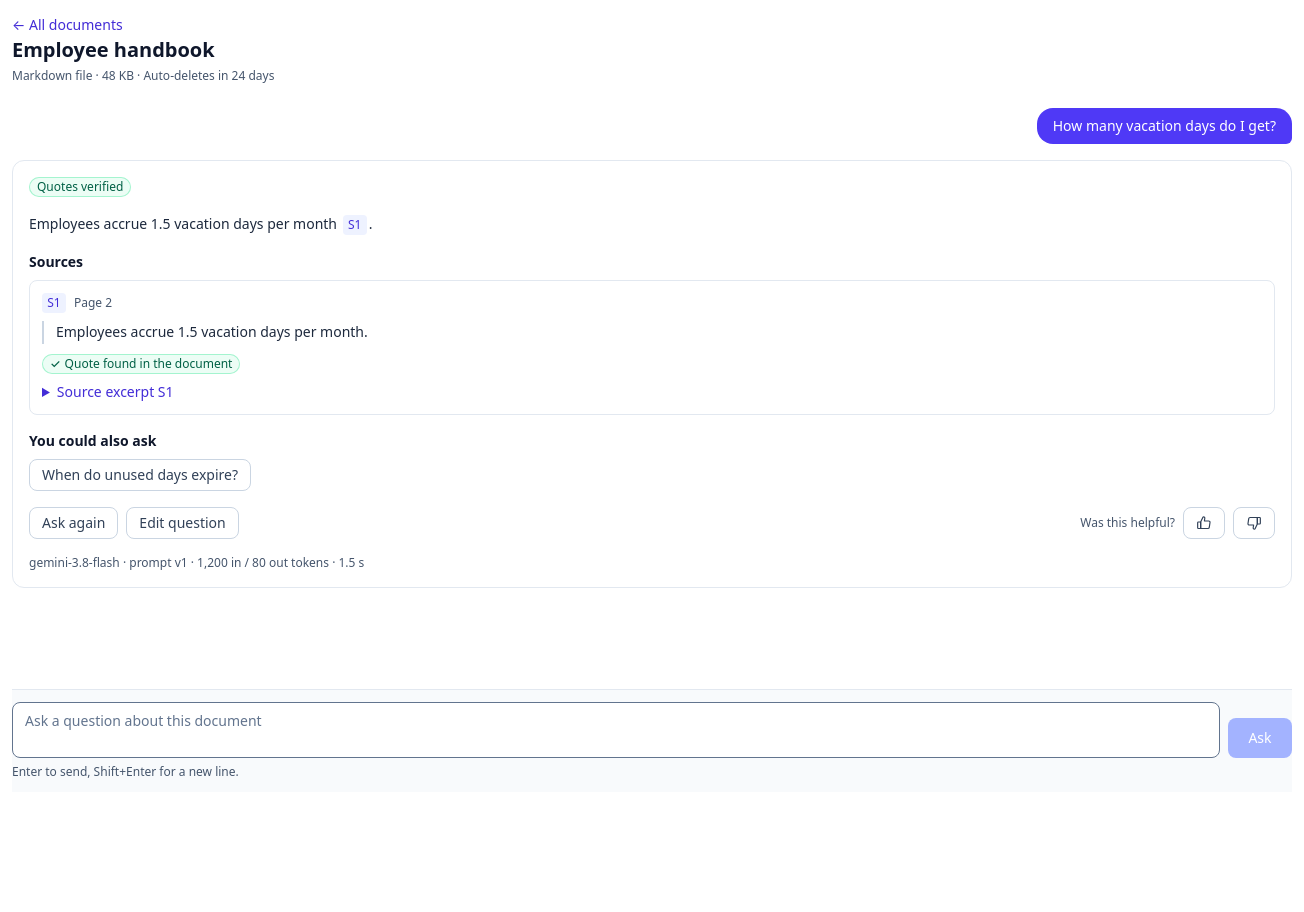
Scenario: ChatView: a stored conversation › records feedback and shows the choice
Click the button named "Helpful".
click(1204, 522)  # box [1183,506,1225,538]
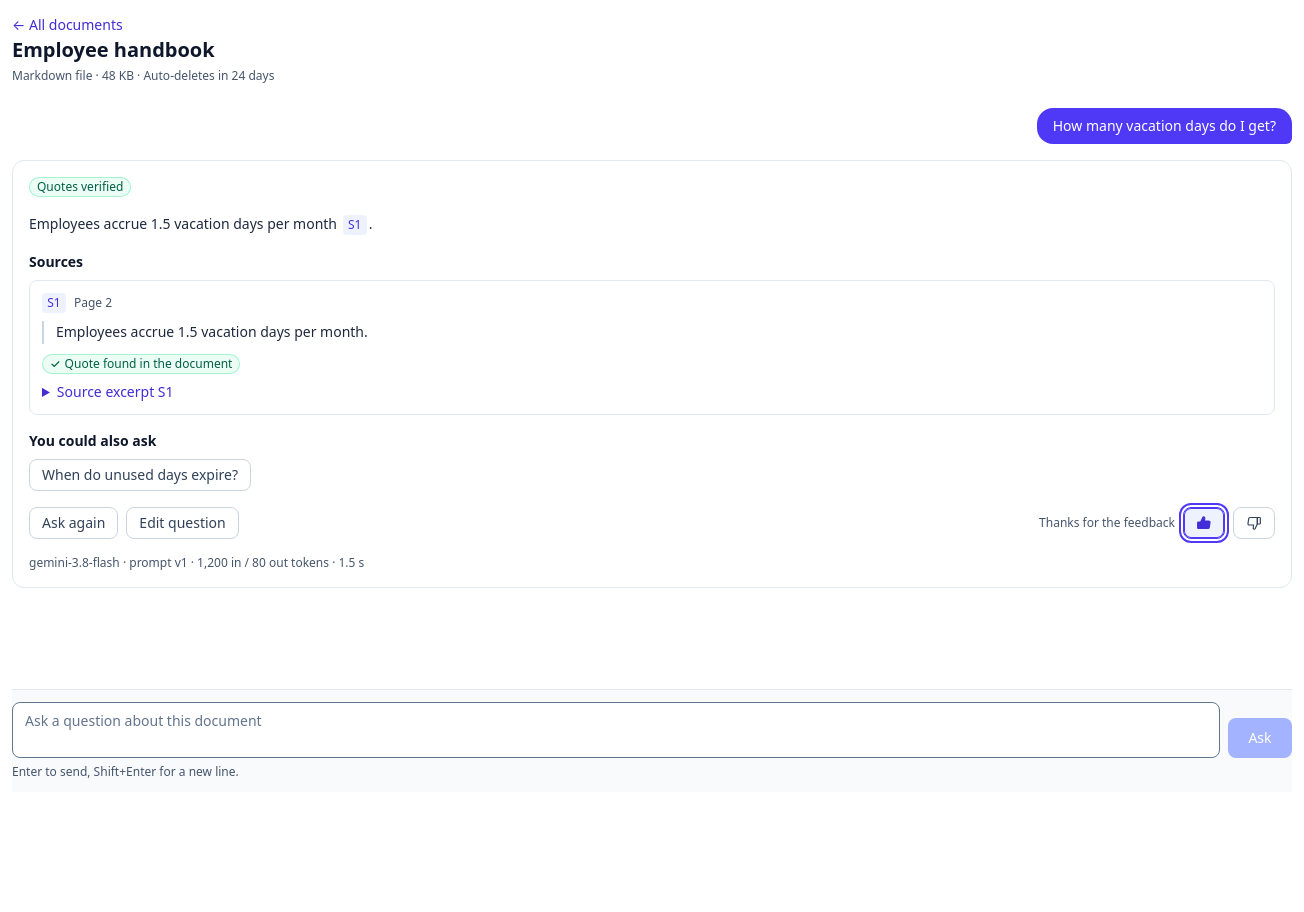
Now the text "Thanks for the feedback" is shown, box [1039,514,1175,530]
